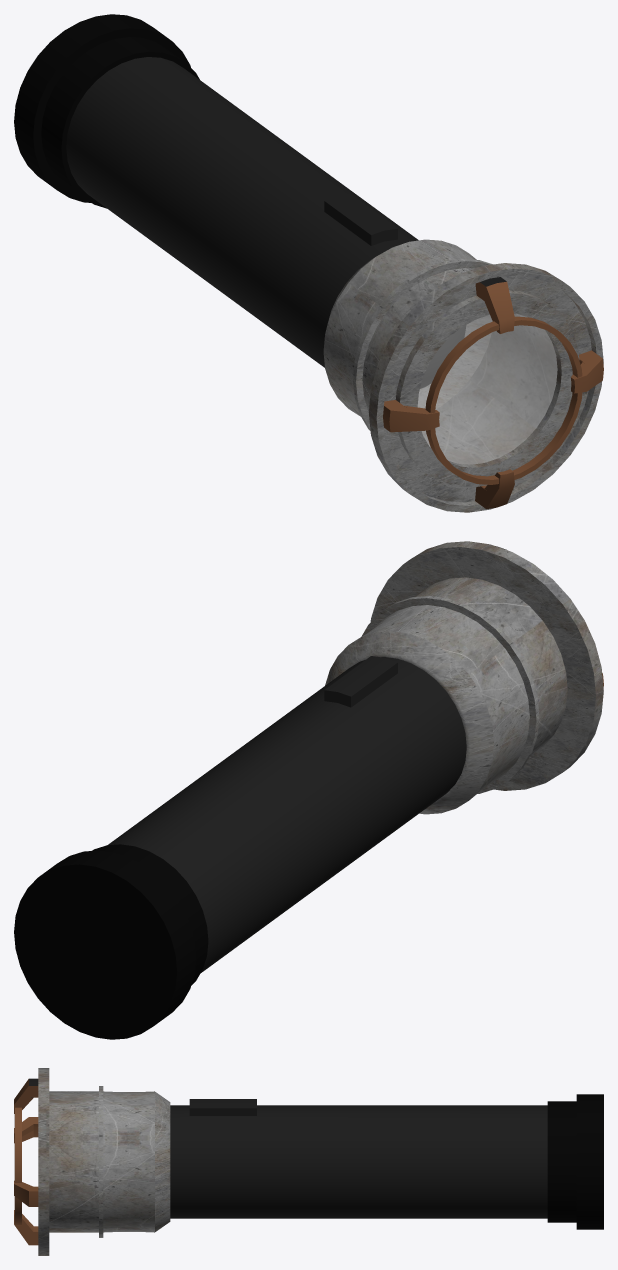
The model's file is FlashLight.fbx.
The picture shows the model from 3 angles, top to bottom: view 1: azimuth 30°, elevation 25°; view 2: azimuth 150°, elevation 25°; view 3: azimuth 270°, elevation 25°; orthographic projection. The views are drawn at different scales.
Visible parts, largest first — view 1: FlashLight, FlashLight_FrontGlass, FlashLight_Button; view 2: FlashLight, FlashLight_Button; view 3: FlashLight, FlashLight_Button.
Boxes of the visible parts, box(x1,y1,x2,y2) form: FlashLight: box(14, 14, 603, 512); FlashLight_FrontGlass: box(417, 313, 557, 464); FlashLight_Button: box(324, 194, 397, 245); FlashLight: box(14, 541, 603, 1039); FlashLight_Button: box(324, 656, 397, 707); FlashLight: box(14, 1068, 603, 1255); FlashLight_Button: box(189, 1099, 256, 1115).
Bounding box in the file's own units: 99.23 × 99.23 × 311.
